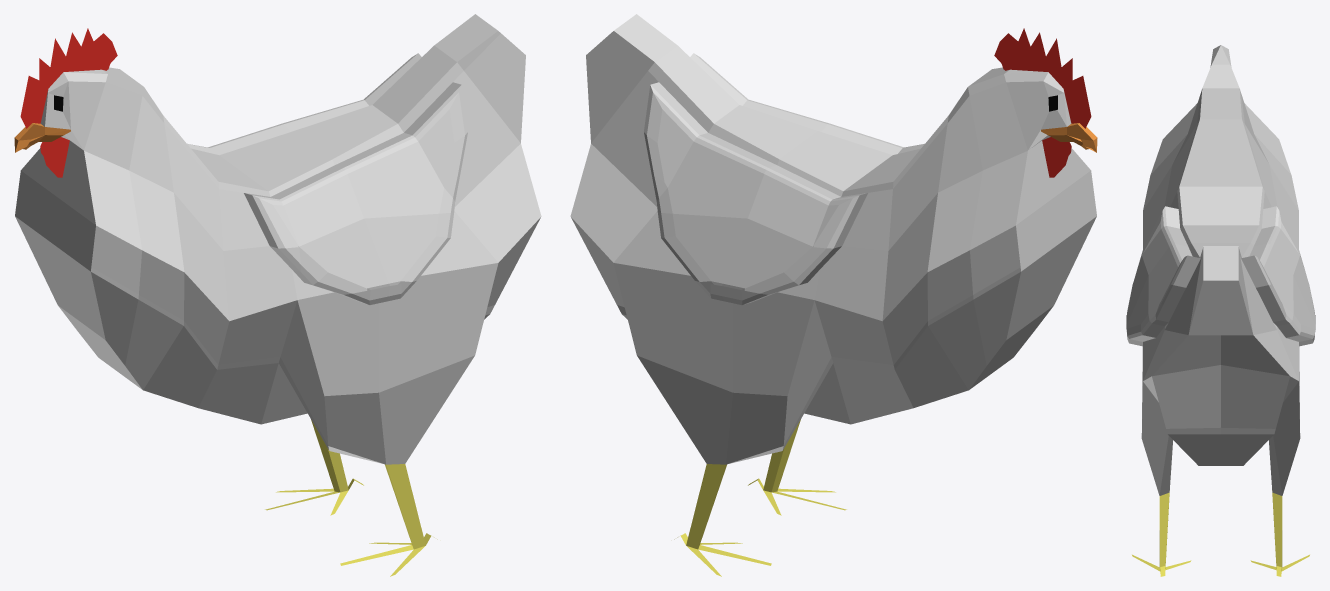
File: gallina.glb
3 renders of one model, left to right at view 1: azimuth 30°, elevation 25°; view 2: azimuth 150°, elevation 25°; view 3: azimuth 270°, elevation 25°, orthographic. The views are drawn at different scales.
Parts seen in each view (by area): view 1: Cubo, Plano.001, Plano; view 2: Cubo, Plano.001, Plano; view 3: Cubo.
Boxes of the visible parts, x1,y1,x2,y2 form: Cubo: (14,14,541,576); Plano.001: (20,28,117,128); Plano: (40,137,69,177); Cubo: (570,14,1097,576); Plano.001: (994,28,1091,128); Plano: (1042,137,1071,177); Cubo: (1126,45,1315,576).
Size of the model in its own units: 3.52 by 3.81 by 1.49.
